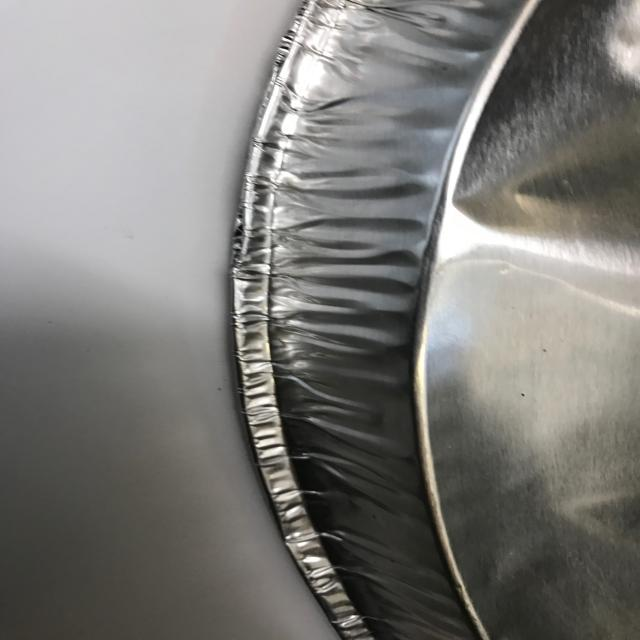metal: (233, 1, 640, 639)
